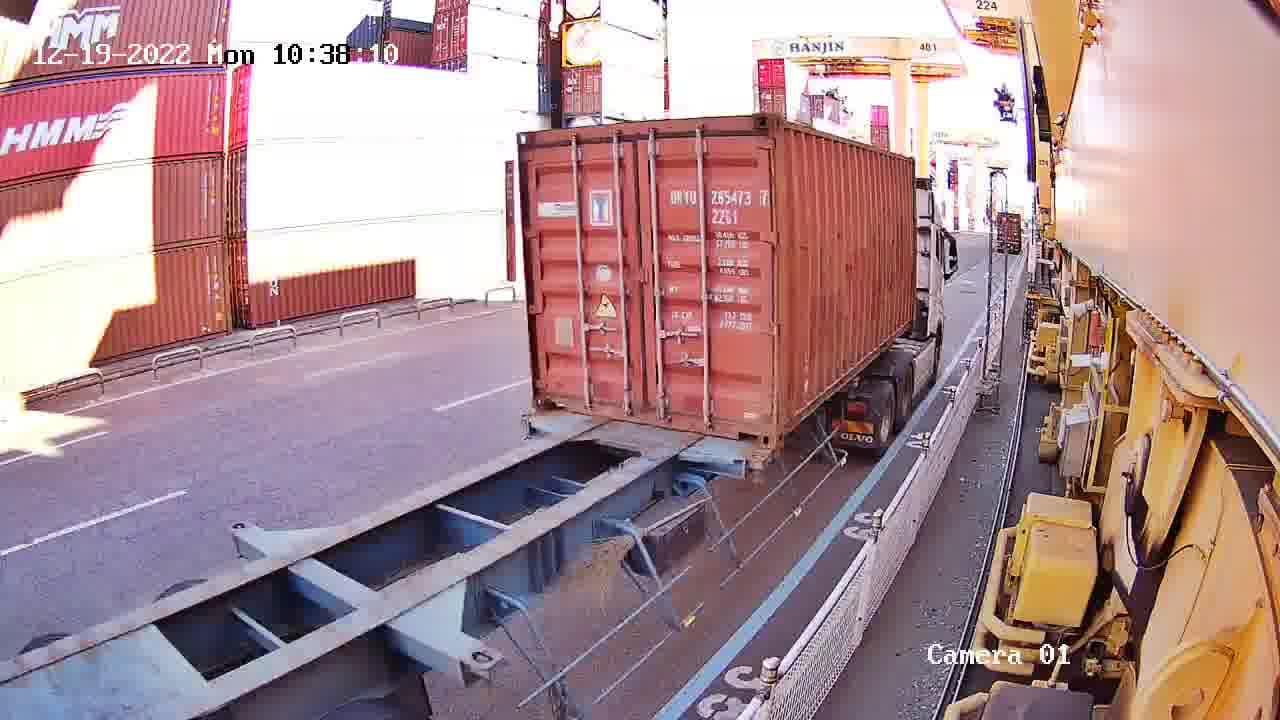Chassis: (528, 404, 775, 454), (525, 416, 764, 464)
Cone: (744, 455, 768, 484), (766, 450, 783, 460)
Hole_L: (777, 394, 801, 443), (533, 382, 565, 412)
Hole_R: (734, 405, 776, 446)
Tire: (897, 364, 914, 421), (875, 396, 895, 442)
